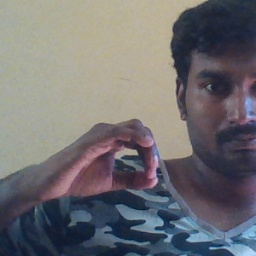O: (51, 114, 162, 207)
